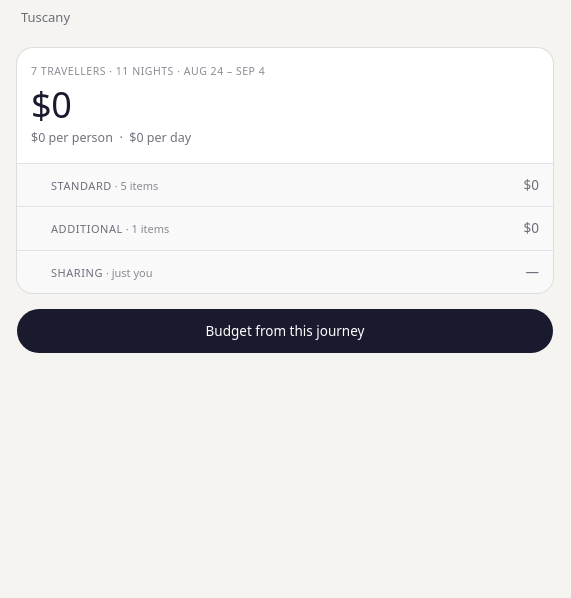
Budget saves as you go › writes a change a moment after typing stops
Click the text "Additional": [87, 229] box [51,221,169,236]
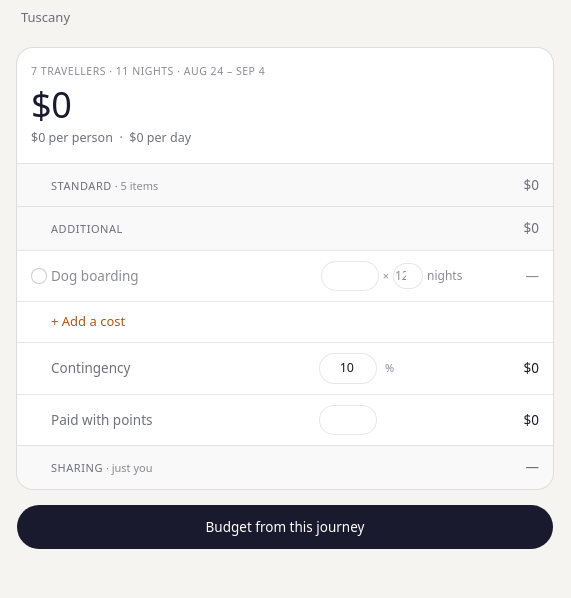
Replace the text in the number field named "Contingency percent" with "12": [348, 368] box [319,353,377,384]
Wait 800 ms
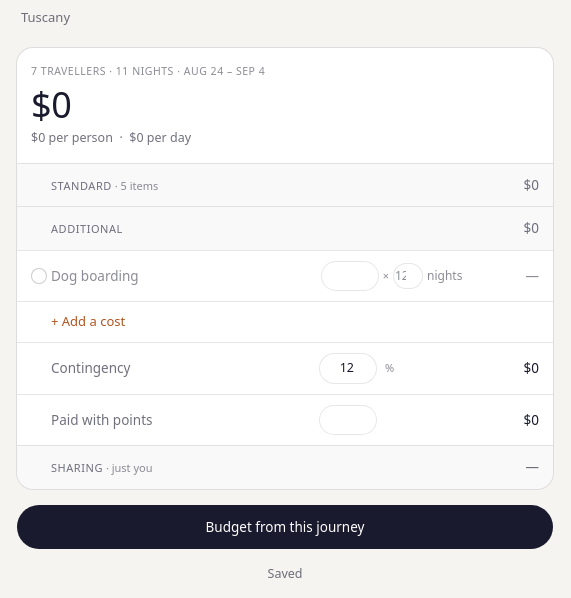
Expected: the text "Saved" is shown, [268,565,302,582]
